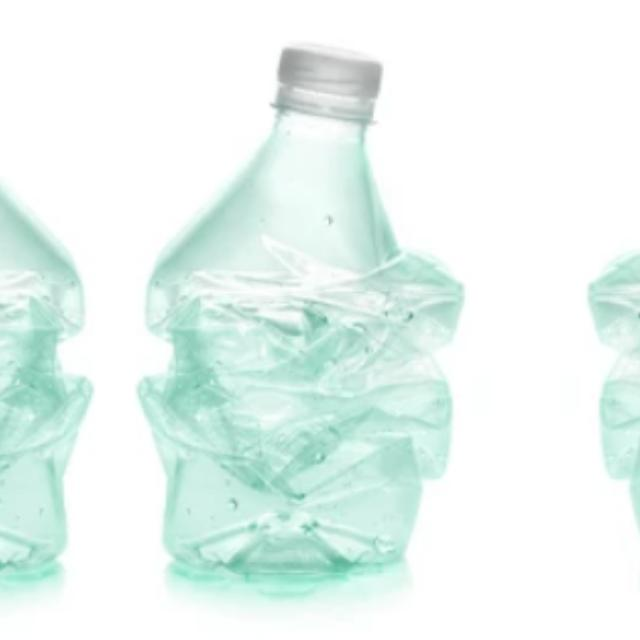Plastic: (133, 32, 483, 610), (0, 32, 95, 609), (569, 32, 640, 609)
